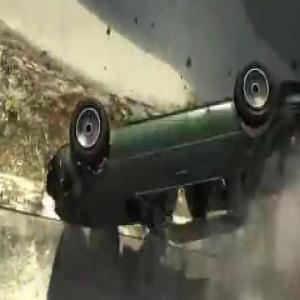serious: (43, 51, 300, 250)
